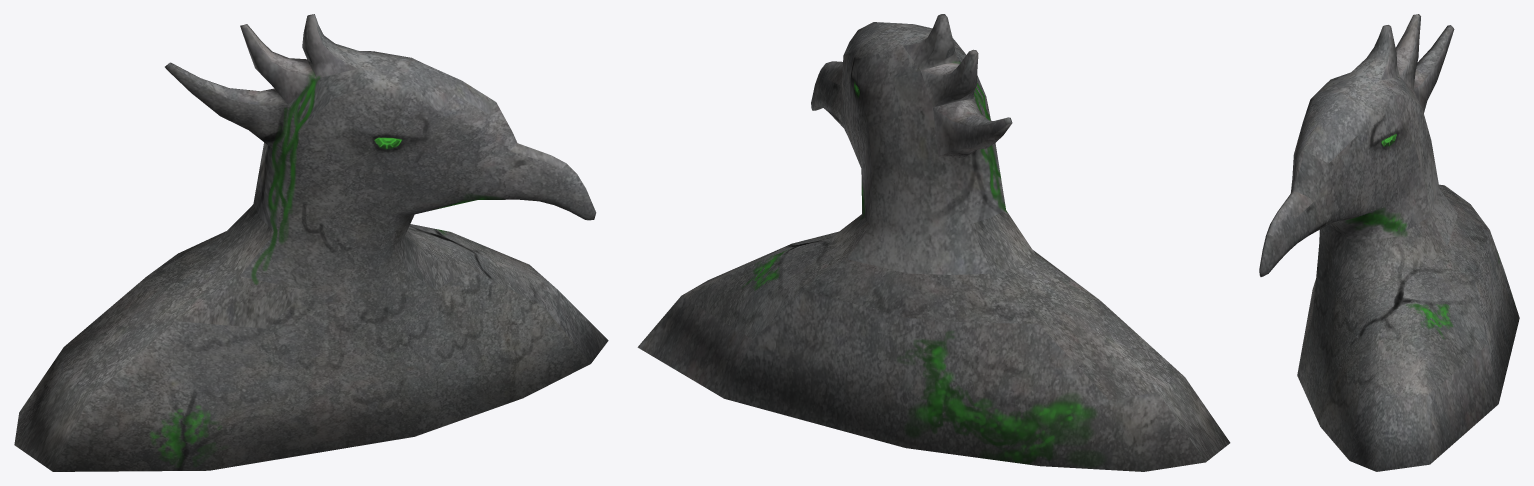
File: kepala gwk.fbx
3 views of the same model, side by side, from view 1: azimuth 30°, elevation 25°; view 2: azimuth 150°, elevation 25°; view 3: azimuth 270°, elevation 25° (orthographic). The views are drawn at different scales.
Visible parts, largest first — view 1: Cylinder; view 2: Cylinder; view 3: Cylinder.
Boxes of the visible parts, x1,y1,x2,y2 form: Cylinder: [14, 14, 608, 471]; Cylinder: [637, 14, 1230, 471]; Cylinder: [1259, 14, 1519, 471].
Size of the model in its own units: 653 by 432 by 307.
